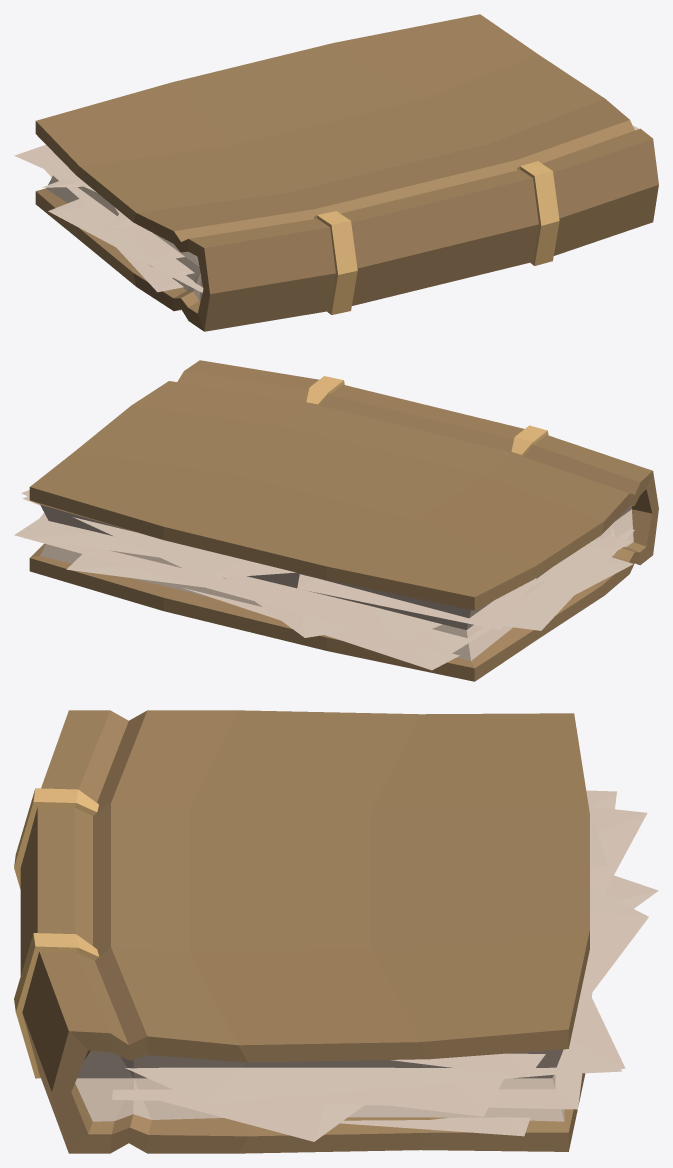
The model's file is Book01_Closed.fbx.
3 views of the same model, one above another, from view 1: azimuth 30°, elevation 25°; view 2: azimuth 150°, elevation 25°; view 3: azimuth 270°, elevation 25° (orthographic). The views are drawn at different scales.
Visible parts, largest first — view 1: Book01_Closed; view 2: Book01_Closed; view 3: Book01_Closed.
Boxes of the visible parts, x1,y1,x2,y2 form: Book01_Closed: (14, 14, 658, 331); Book01_Closed: (14, 360, 658, 681); Book01_Closed: (14, 710, 658, 1153).
Bounding box in the file's own units: 1.12 × 0.1831 × 0.8107.
